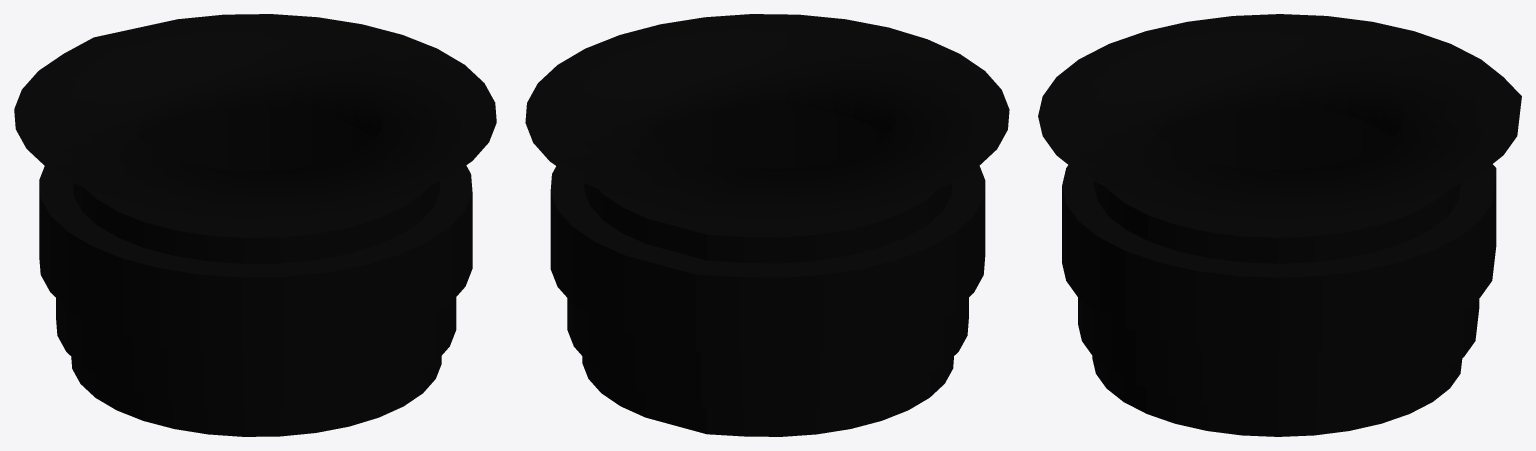
The model's file is ShopRoom.fbx.
3 renders of one model, left to right at view 1: azimuth 30°, elevation 25°; view 2: azimuth 150°, elevation 25°; view 3: azimuth 270°, elevation 25°, orthographic.
Parts seen in each view (by area): view 1: ShopRoom_UP, ShopRoom_Centre; view 2: ShopRoom_UP, ShopRoom_Centre; view 3: ShopRoom_UP, ShopRoom_Centre.
Part boxes in pixels (x1,y1,x2,y2): ShopRoom_UP: (14, 14, 496, 354); ShopRoom_Centre: (56, 297, 456, 436); ShopRoom_UP: (525, 14, 1009, 354); ShopRoom_Centre: (567, 298, 968, 436); ShopRoom_UP: (1038, 14, 1521, 354); ShopRoom_Centre: (1078, 298, 1479, 436).
Size of the model in its own units: 47961 by 26481 by 47961.
